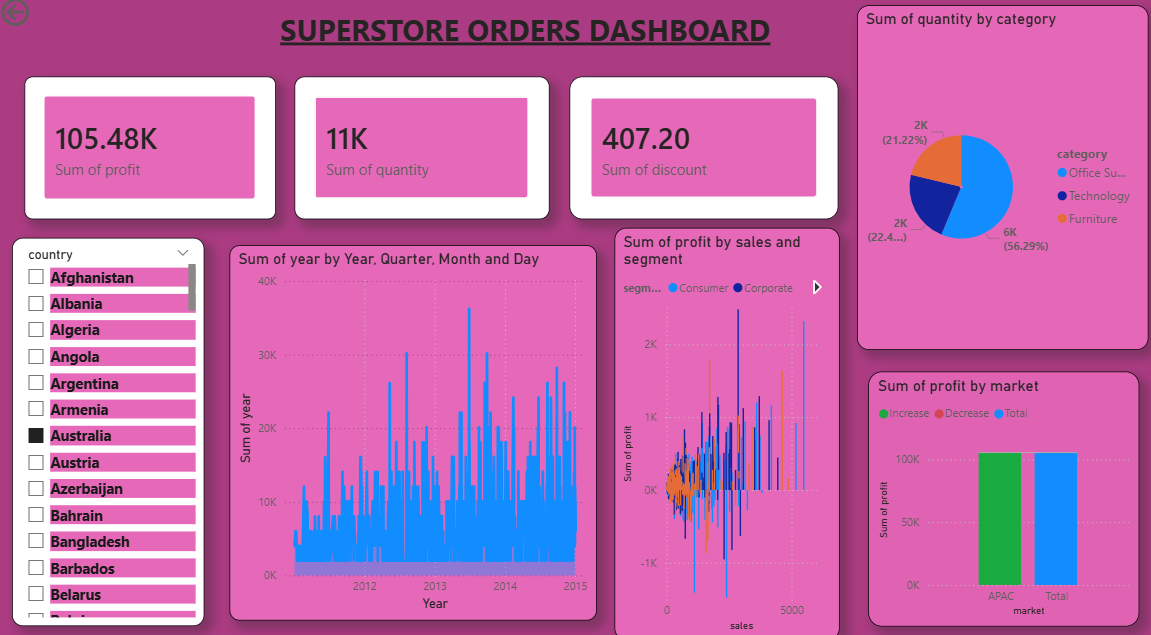

Layout of this report page (visuals, bound fields, positions):
{"tool":"powerbi","page":{"name":"Page 1","canvas":[1280,720],"ordinal":0},"visuals":[{"type":"cardVisual","fields":{"Data":["Sum(SuperStoreOrders.profit)"]},"box":[30.2,90.6,275.8,156.4],"z":0},{"type":"cardVisual","fields":{"Data":["Sum(SuperStoreOrders.quantity)"]},"box":[326.6,90.6,279.9,156.4],"z":1000},{"type":"cardVisual","fields":{"Data":["Sum(SuperStoreOrders.discount)"]},"box":[628.5,90.6,295,156.4],"z":2000},{"type":"donutChart","fields":{"Category":["SuperStoreOrders.category"],"Y":["Sum(SuperStoreOrders.quantity)"]},"box":[944.1,12.3,319.7,378.7],"z":3000},{"type":"slicer","fields":{"Values":["SuperStoreOrders.country"]},"box":[16.5,267.6,211.3,426.8],"z":4000},{"type":"textbox","box":[306,12.3,743.7,63.1],"z":5000},{"type":"lineChart","fields":{"Y":["Sum(SuperStoreOrders.year)"],"Category":["SuperStoreOrders.ship_date.Variation.Date Hierarchy.Year","SuperStoreOrders.ship_date.Variation.Date Hierarchy.Quarter","SuperStoreOrders.ship_date.Variation.Date Hierarchy.Month","SuperStoreOrders.ship_date.Variation.Date Hierarchy.Day"]},"box":[255.2,275.8,403.4,411.7],"z":6000},{"type":"columnChart","fields":{"Category":["SuperStoreOrders.sales"],"Y":["Sum(SuperStoreOrders.profit)"],"Series":["SuperStoreOrders.segment"]},"box":[677.9,256.6,247,452.8],"z":7000},{"type":"waterfallChart","fields":{"Category":["SuperStoreOrders.market"],"Y":["Sum(SuperStoreOrders.profit)"]},"box":[956.4,414.4,297.8,279.9],"z":8000},{"type":"actionButton","box":[0,0,100,40],"z":9000}]}

Visuals, with their boxes in screenshot pixels (x1, y1, x2, y2), scaled from the page's 1280x720 canvas onto the 1151x635 screenshot:
cardVisual - Sum(SuperStoreOrders.profit): box=[27, 80, 275, 218]
cardVisual - Sum(SuperStoreOrders.quantity): box=[294, 80, 545, 218]
cardVisual - Sum(SuperStoreOrders.discount): box=[565, 80, 830, 218]
donutChart - SuperStoreOrders.category x Sum(SuperStoreOrders.quantity): box=[849, 11, 1136, 345]
slicer - SuperStoreOrders.country: box=[15, 236, 205, 612]
textbox: box=[275, 11, 944, 66]
lineChart - Sum(SuperStoreOrders.year) x SuperStoreOrders.ship_date.Variation.Date Hierarchy.Year: box=[229, 243, 592, 606]
columnChart - SuperStoreOrders.sales x Sum(SuperStoreOrders.profit): box=[610, 226, 832, 626]
waterfallChart - SuperStoreOrders.market x Sum(SuperStoreOrders.profit): box=[860, 365, 1128, 612]
actionButton: box=[0, 0, 90, 35]
